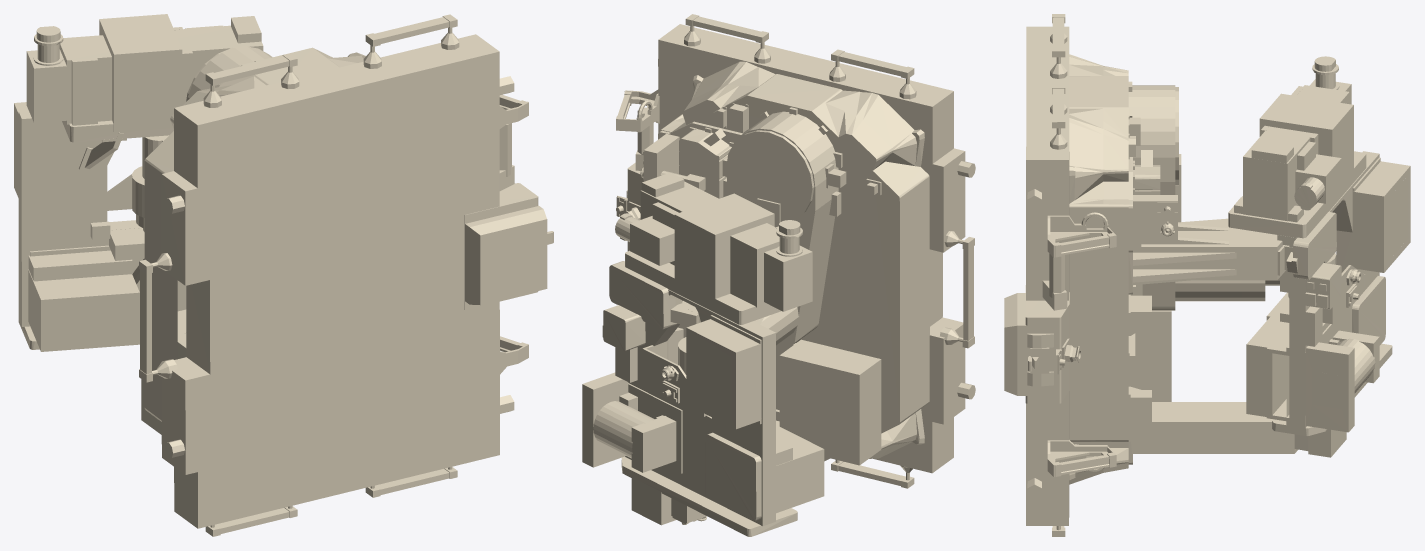
File: tsis.glb
3 views of the same model, side by side, from view 1: azimuth 30°, elevation 25°; view 2: azimuth 150°, elevation 25°; view 3: azimuth 270°, elevation 25° (orthographic). The views are drawn at different scales.
Visible parts, largest first — view 1: Payload_TSIS_Details; view 2: Payload_TSIS_Details; view 3: Payload_TSIS_Details.
Boxes of the visible parts, x1,y1,x2,y2 form: Payload_TSIS_Details: (14, 14, 553, 536); Payload_TSIS_Details: (582, 14, 975, 536); Payload_TSIS_Details: (1004, 14, 1410, 536).
Size of the model in its own units: 0.1231 by 0.1363 by 0.121.
